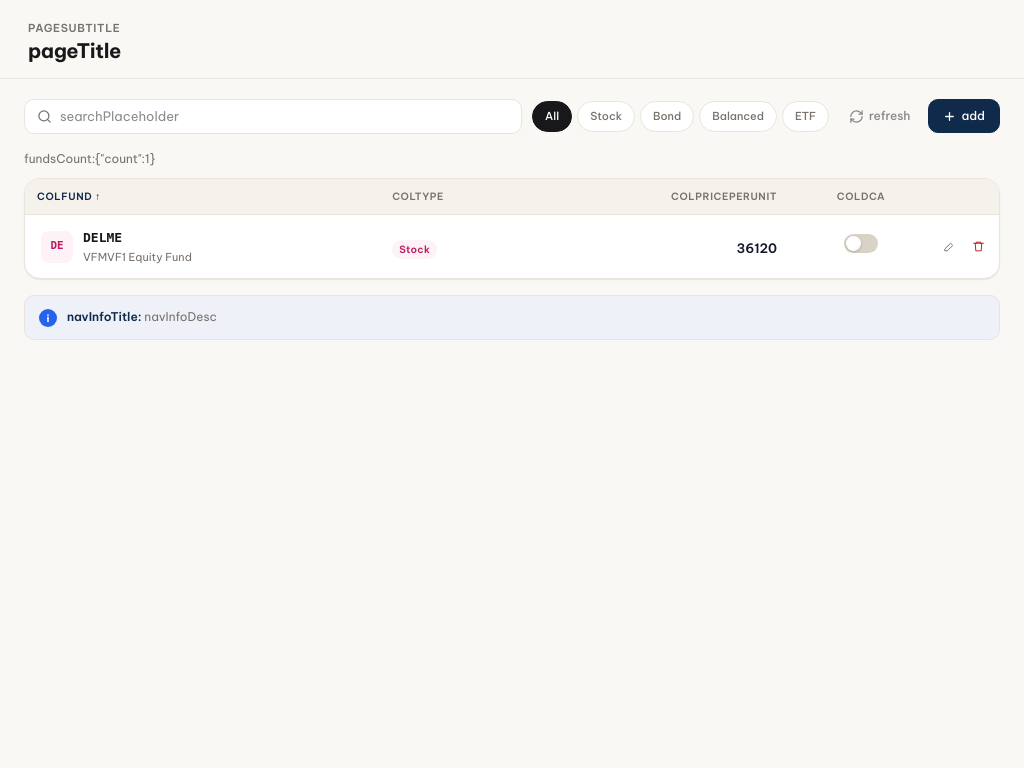
it: DesktopFundLibraryView — modals › opens the delete confirmation modal with a localized title key
The width and height of the screenshot is (1024, 768).
Click the button with test id "fund-delete-btn" at (978, 246), box [966,234,991,259]
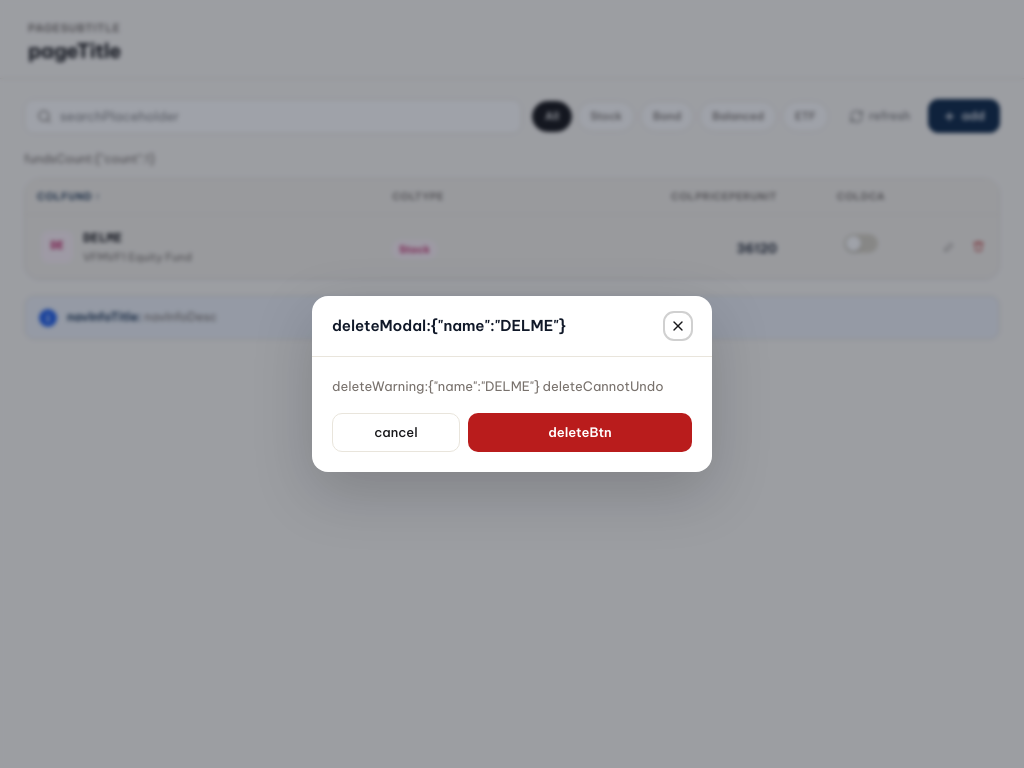
expect the text "deleteModal:{\"name\":\"DELME\"}" is shown: met, box [332,315,566,337]
